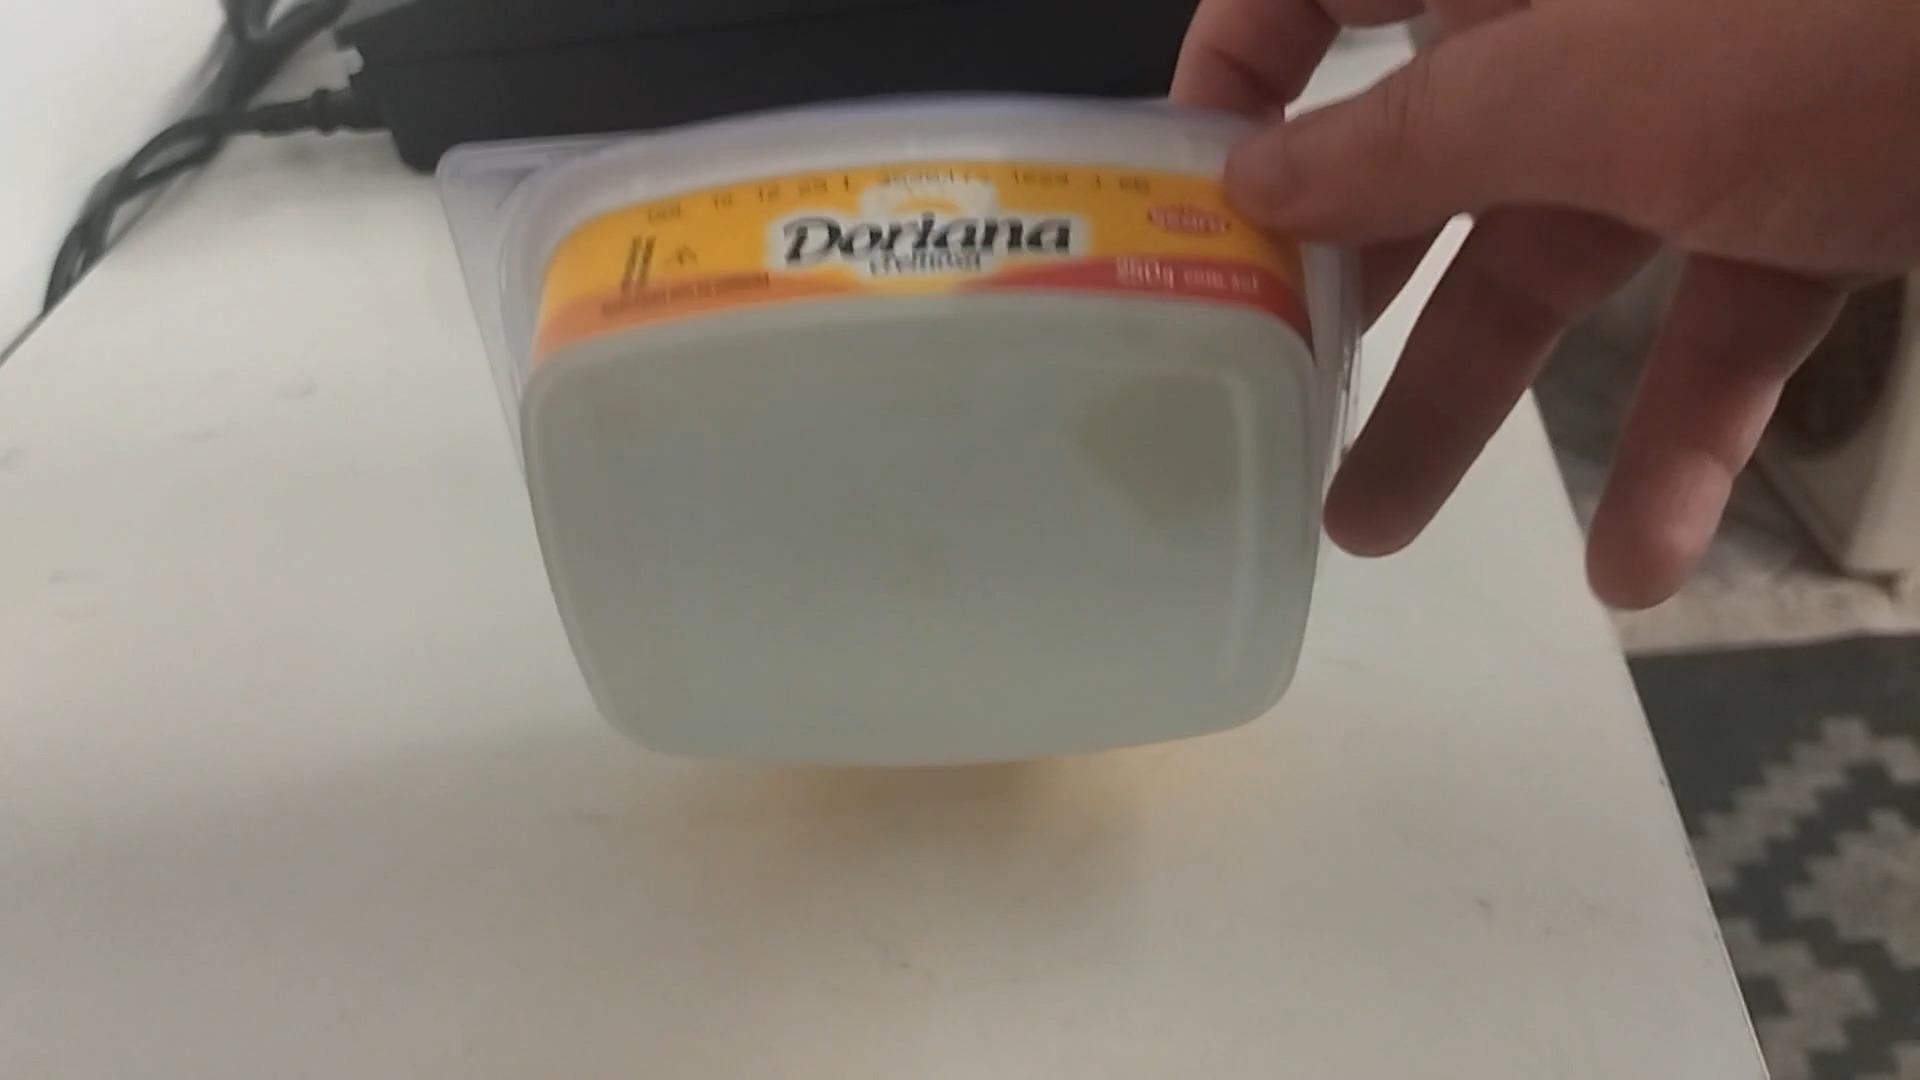butter: (438, 90, 1352, 773)
